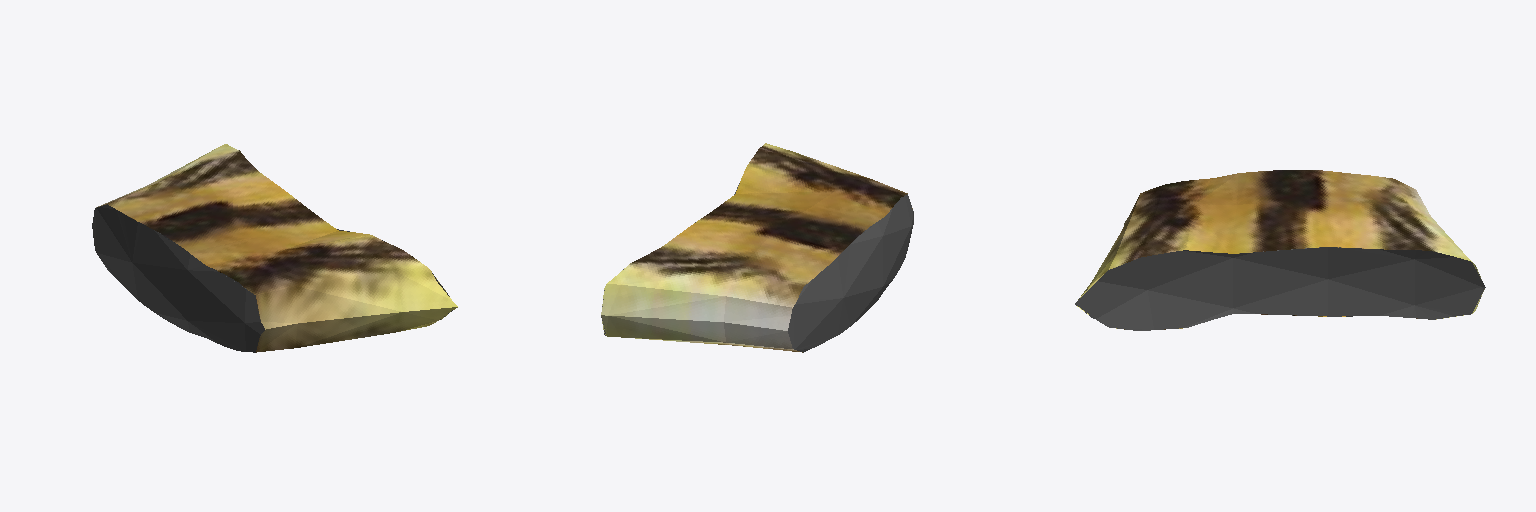
3 renders of one model, left to right at view 1: azimuth 30°, elevation 25°; view 2: azimuth 150°, elevation 25°; view 3: azimuth 270°, elevation 25°, orthographic.
Size of the model in its own units: 0.0014 by 0.0006 by 0.0024.
1 materials, 1 textured.